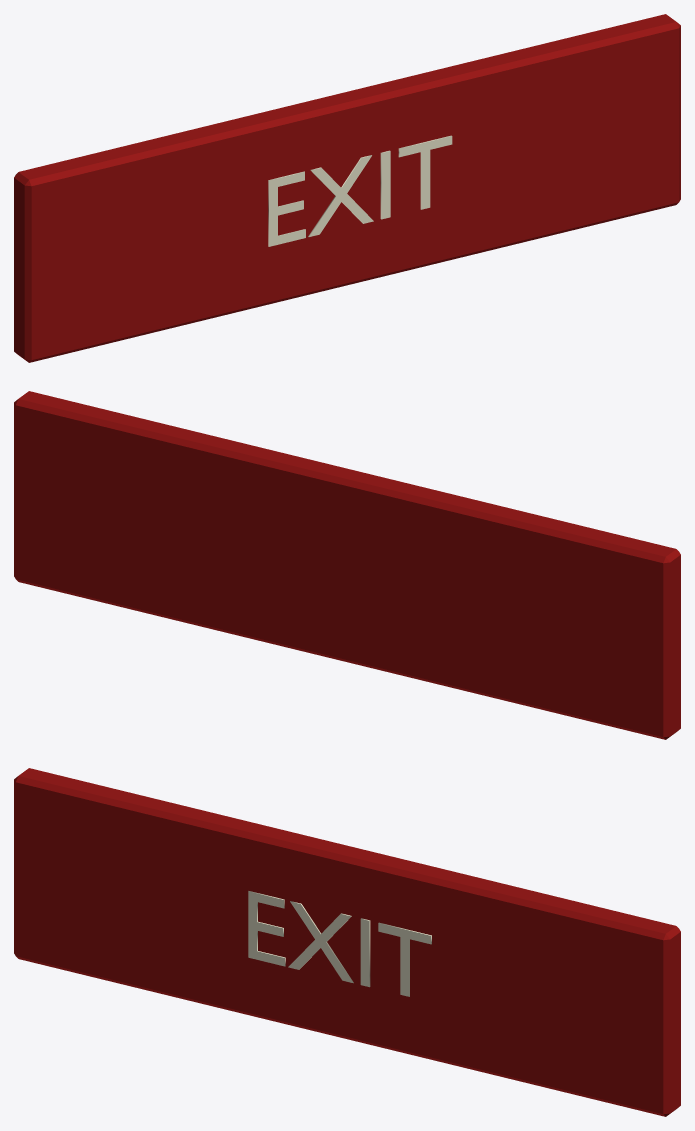
The model's file is ExitSign.fbx.
The picture shows the model from 3 angles, top to bottom: view 1: azimuth 30°, elevation 25°; view 2: azimuth 150°, elevation 25°; view 3: azimuth 330°, elevation 25°; orthographic projection.
Parts seen in each view (by area): view 1: ExitSign; view 2: ExitSign; view 3: ExitSign.
Boxes of the visible parts, x1,y1,x2,y2 form: ExitSign: (14, 14, 680, 362); ExitSign: (14, 391, 680, 739); ExitSign: (14, 768, 680, 1116).
Size of the model in its own units: 120 by 32 by 5.8.
1 material, 1 textured.
